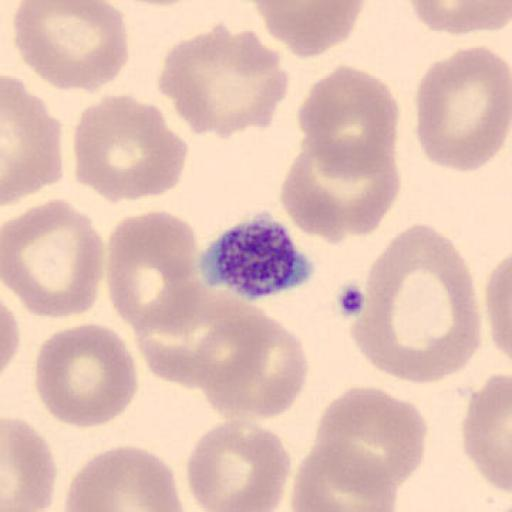Platelet: (196, 210, 317, 302)
RBC: (349, 223, 480, 385), (129, 278, 276, 388), (156, 26, 292, 140), (105, 206, 206, 336), (72, 92, 190, 203), (279, 138, 402, 244), (195, 308, 310, 420), (2, 197, 105, 321), (413, 44, 511, 174), (296, 64, 400, 184), (313, 385, 428, 488), (34, 321, 140, 429), (13, 0, 129, 95), (185, 417, 293, 512), (62, 443, 185, 512), (280, 147, 366, 245), (1, 75, 64, 207), (290, 437, 400, 512), (250, 0, 368, 59), (461, 372, 512, 496), (0, 414, 57, 512), (408, 0, 512, 37), (483, 252, 512, 362), (0, 274, 20, 376), (2, 298, 22, 374)
